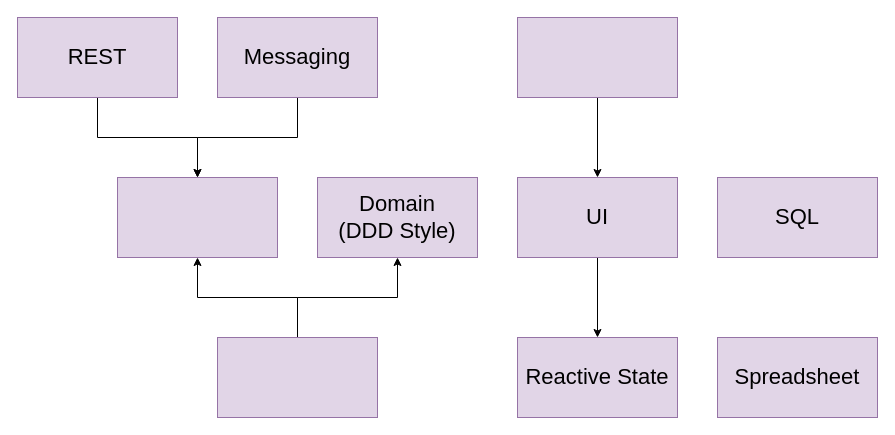
Some shapes in this 895 by 435 pixel diagram are drawn without their labels. Each missing label, with the centre of its shape:
"API" belongs at (197,217).
"API Detail" belongs at (297,377).
"Page Object" belongs at (597,57).
